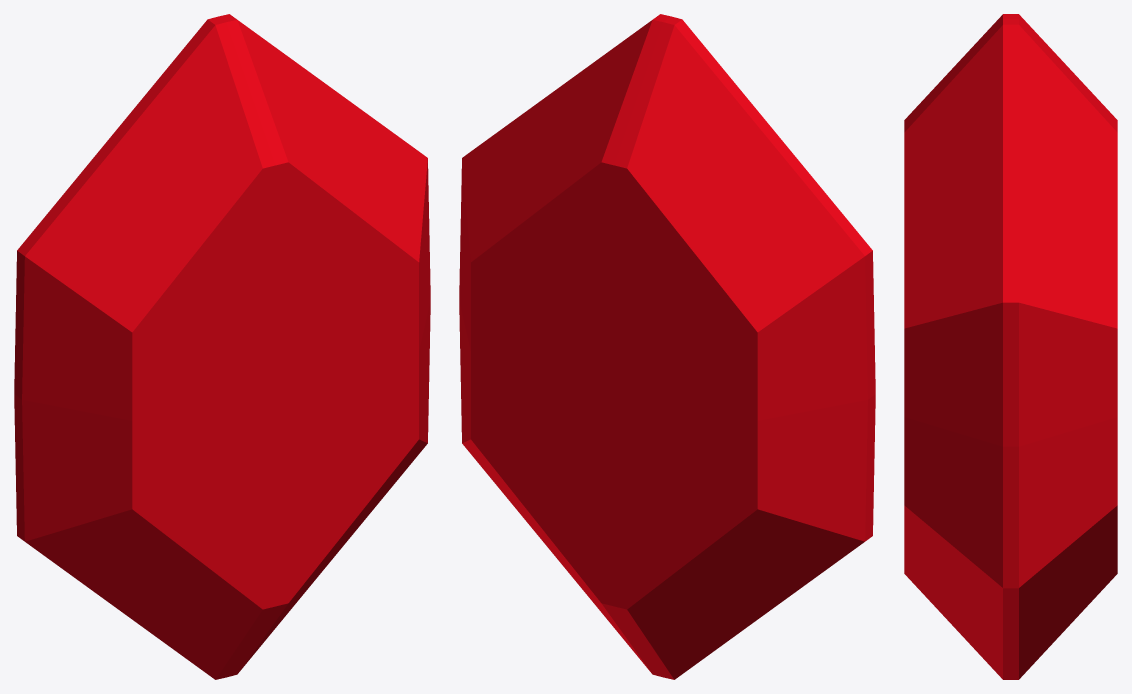
The model's file is Rupee.fbx.
3 renders of one model, left to right at view 1: azimuth 30°, elevation 25°; view 2: azimuth 150°, elevation 25°; view 3: azimuth 270°, elevation 25°, orthographic.
Visible parts, largest first — view 1: Rupee; view 2: Rupee; view 3: Rupee.
Boxes of the visible parts, x1=… form: Rupee: x1=14, y1=14, x2=430, y2=679; Rupee: x1=459, y1=14, x2=875, y2=679; Rupee: x1=904, y1=14, x2=1117, y2=679.
Bounding box in the file's own units: 321 × 492 × 145.
